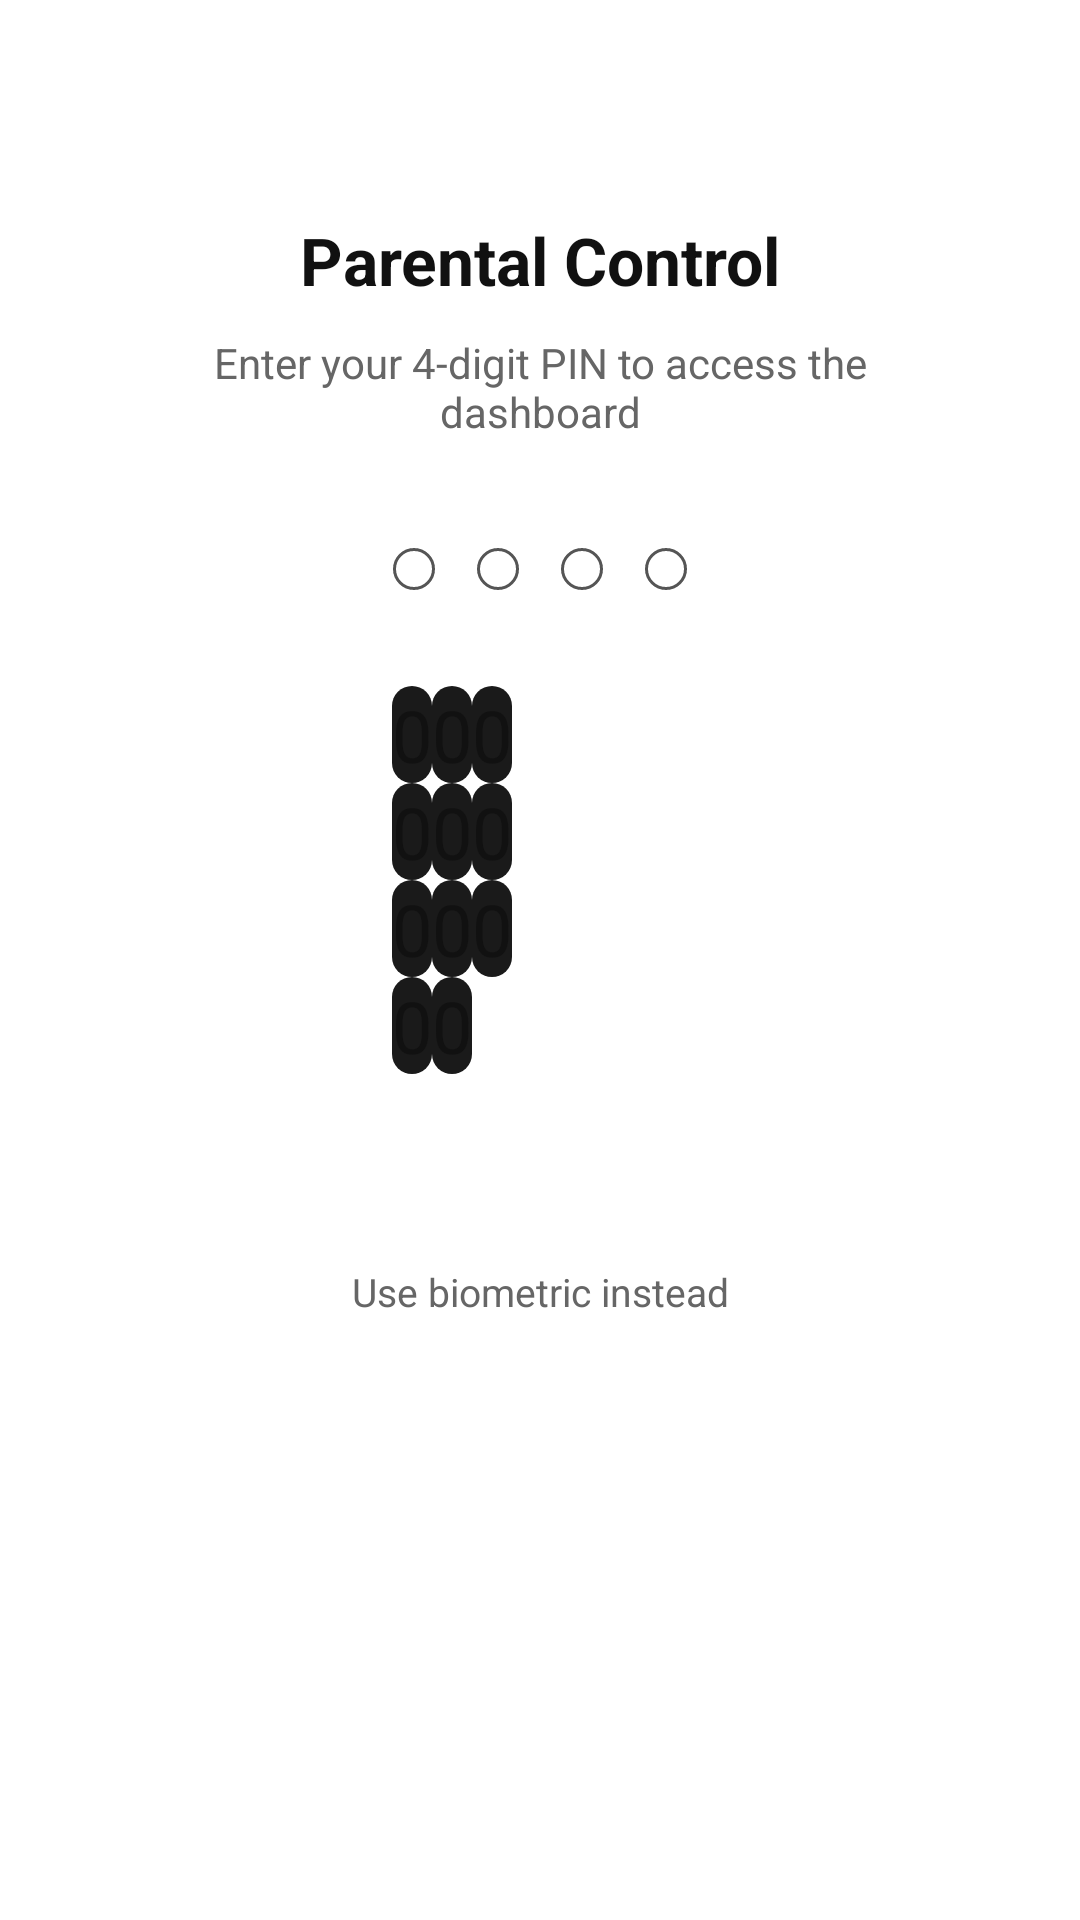

Icon bounding boxes for this 1080 x 1920 phone screenshot, format rect(x1, y1, x2, y2):
pin dot empty: rect(393, 548, 435, 590), rect(477, 548, 519, 590), rect(561, 548, 603, 590), rect(645, 548, 687, 590)
